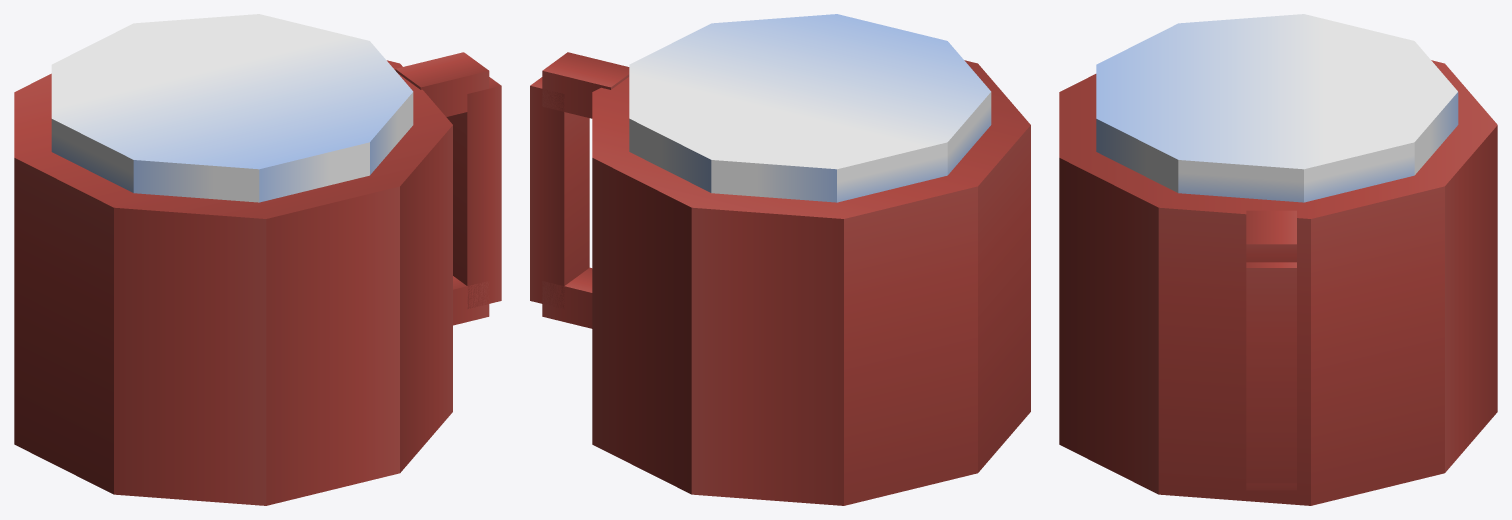
File: cocoa_mug.fbx
The picture shows the model from 3 angles, left to right: view 1: azimuth 30°, elevation 25°; view 2: azimuth 150°, elevation 25°; view 3: azimuth 270°, elevation 25°; orthographic projection.
Parts seen in each view (by area): view 1: cocoa_mug; view 2: cocoa_mug; view 3: cocoa_mug.
Boxes of the visible parts, x1,y1,x2,y2 form: cocoa_mug: [14, 14, 501, 505]; cocoa_mug: [530, 14, 1030, 505]; cocoa_mug: [1059, 14, 1497, 505].
Bounding box in the file's own units: 150 × 101 × 125.
